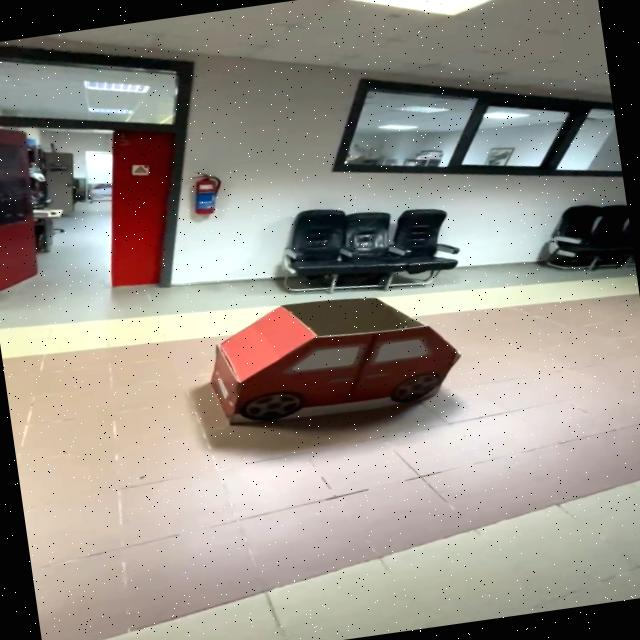red_car: (183, 264, 504, 456)
